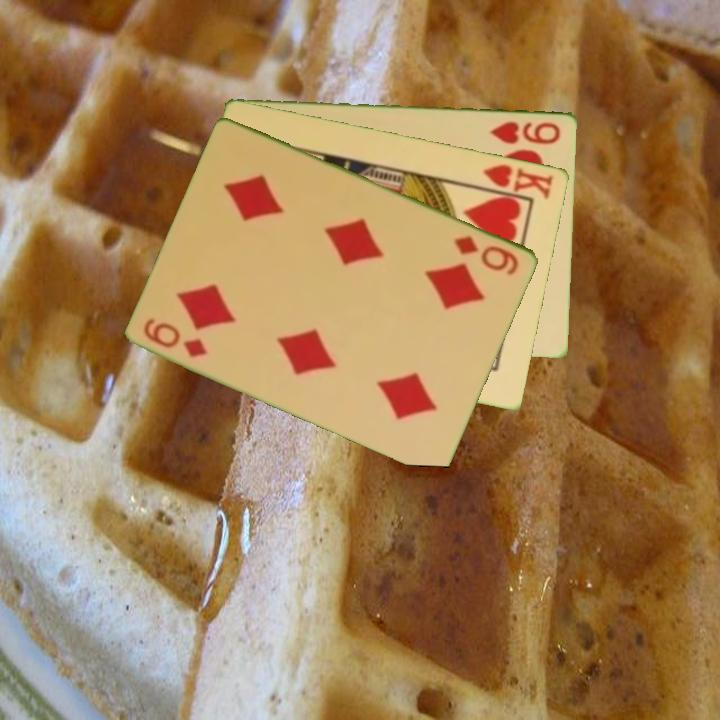6d: (451, 232, 522, 278), (140, 314, 211, 360)
9h: (487, 117, 564, 147)
Kh: (471, 160, 557, 202)
